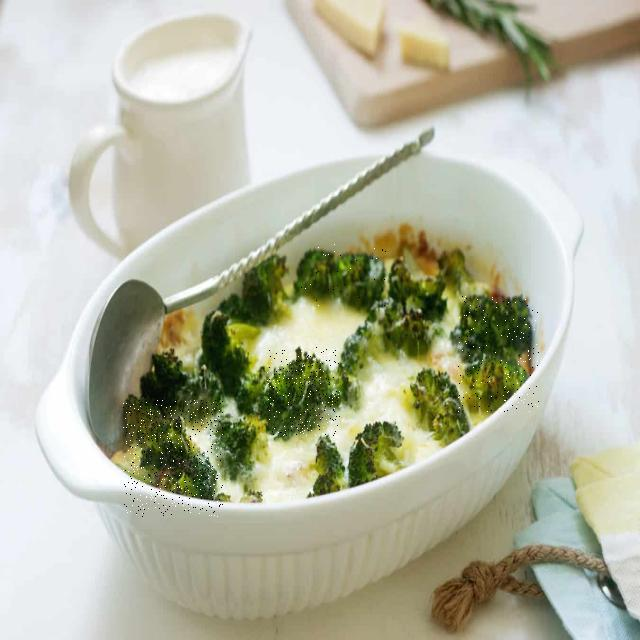Broccoli: (124, 400, 224, 517), (458, 296, 539, 412), (267, 347, 340, 436), (301, 242, 388, 306)
